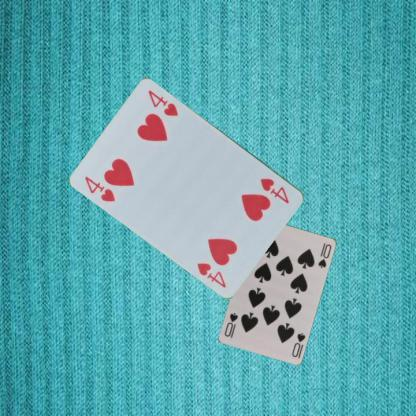10s: (289, 330, 307, 358)
4h: (82, 174, 117, 204), (258, 175, 291, 205)
